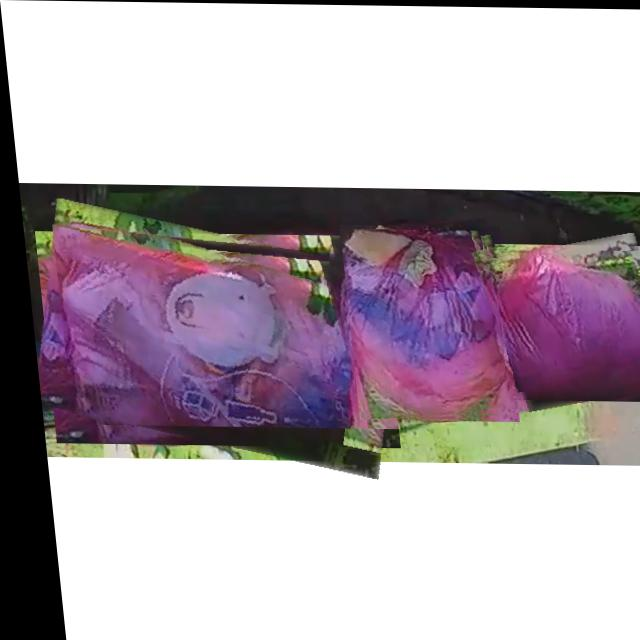other_trashbag: (48, 224, 380, 428), (338, 228, 501, 416), (492, 247, 640, 398)
